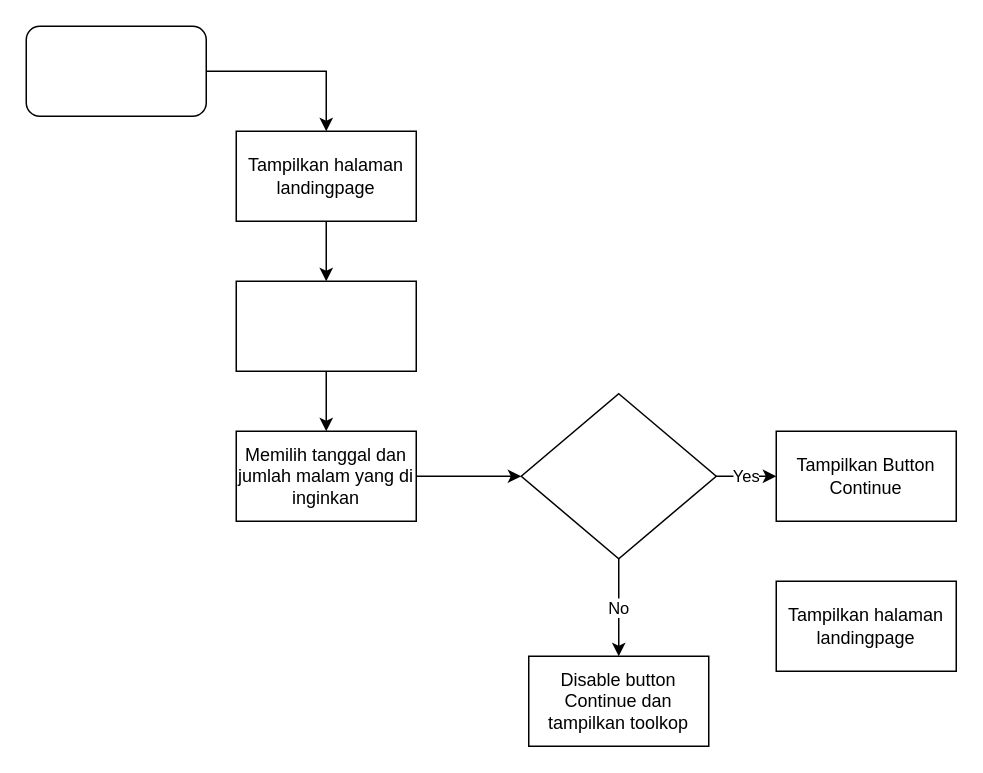
Some shapes in this 983 by 773 pixel diagram are drawn without their labels. Here are the shapes that lost their labels. From the top down, the box of each, then its label:
(25, 25, 206, 116): User Open our website
(235, 280, 416, 371): memilih rumah yang talah disediakan
(520, 392, 716, 559): Apakah tersedia Chek database
